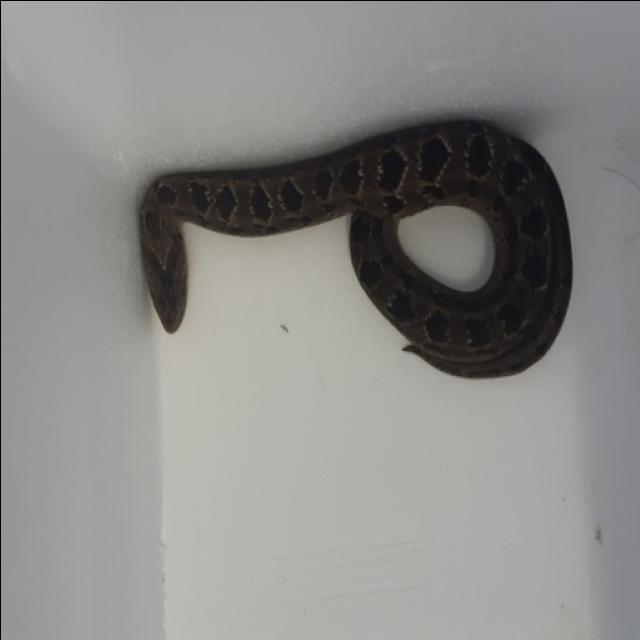snake: (115, 100, 592, 412)
